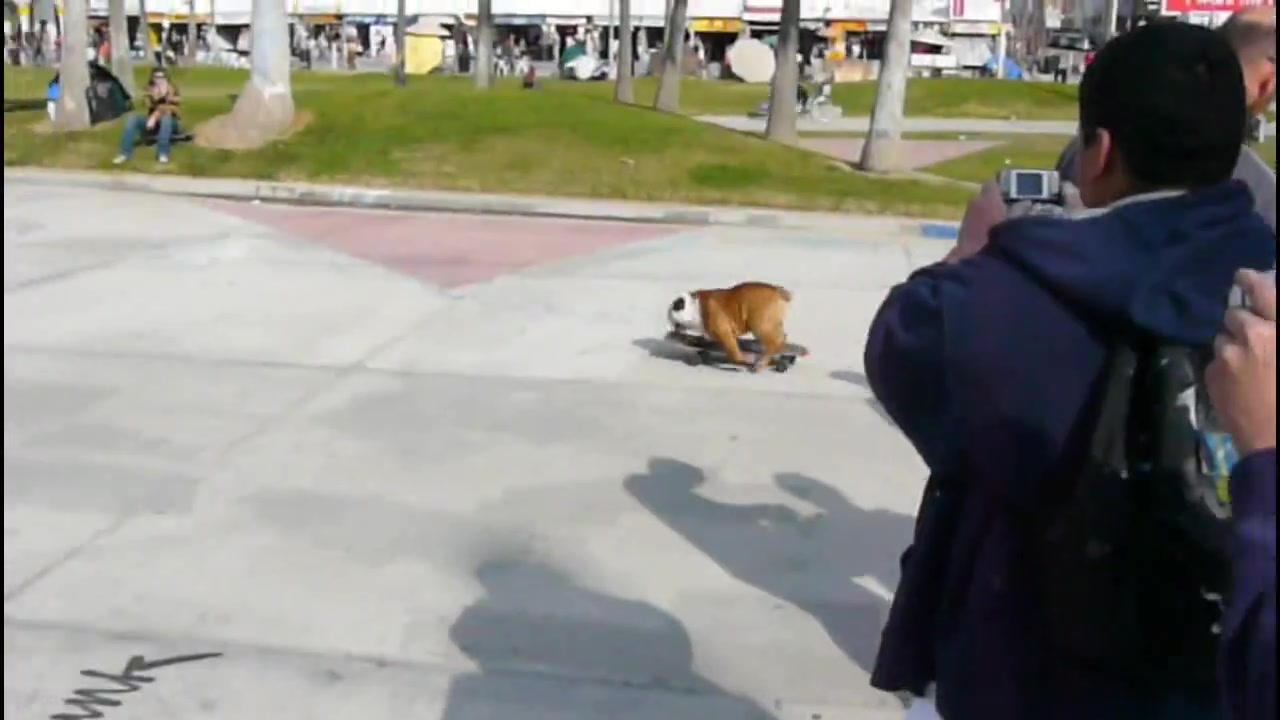dog: (663, 275, 793, 374)
